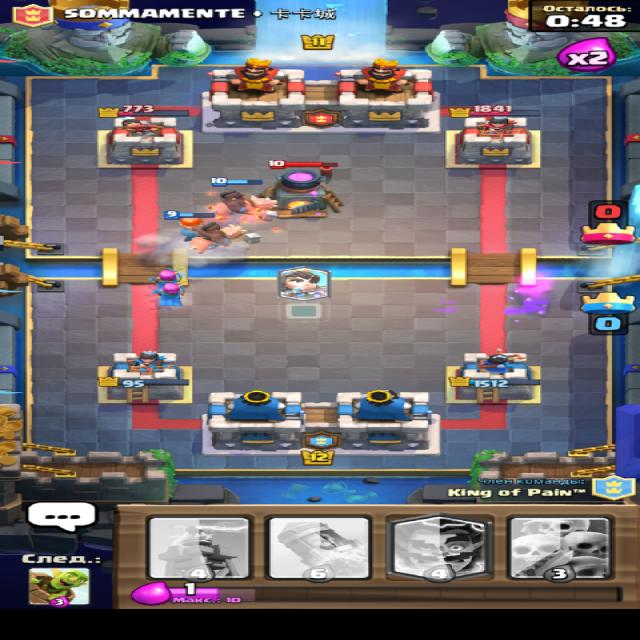Enemy-Furnace: (255, 158, 345, 219)
Player-Archer: (148, 280, 187, 306), (147, 265, 185, 283)
Player-HogRider: (208, 176, 277, 218), (186, 221, 262, 254)
Player-Valkyrie: (161, 209, 216, 242)
